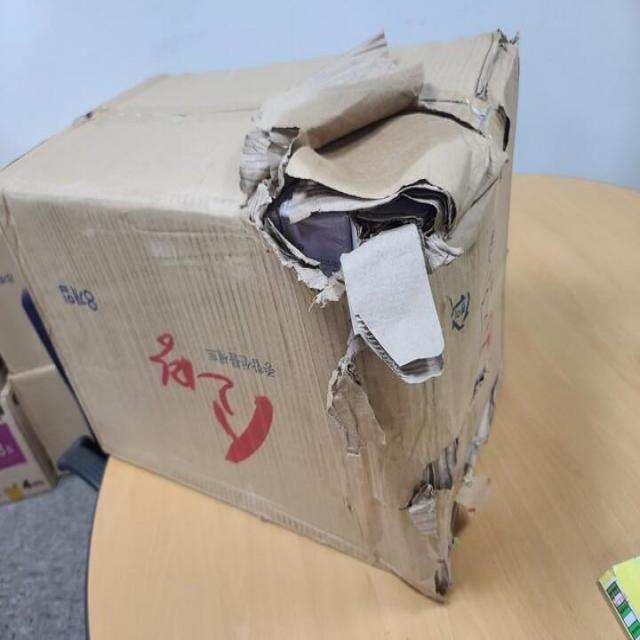damaged: (261, 179, 473, 312)
